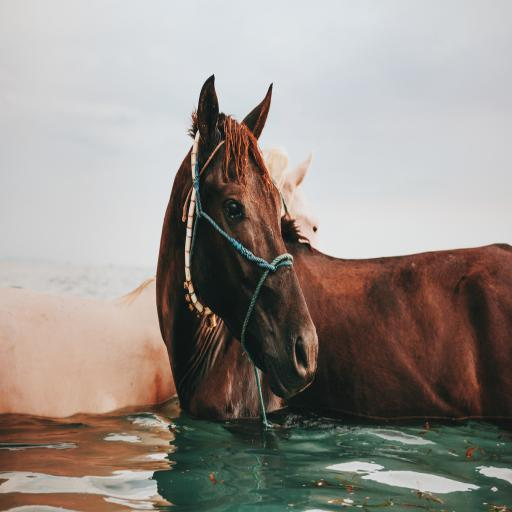horse: (154, 70, 512, 424), (0, 149, 320, 414)
